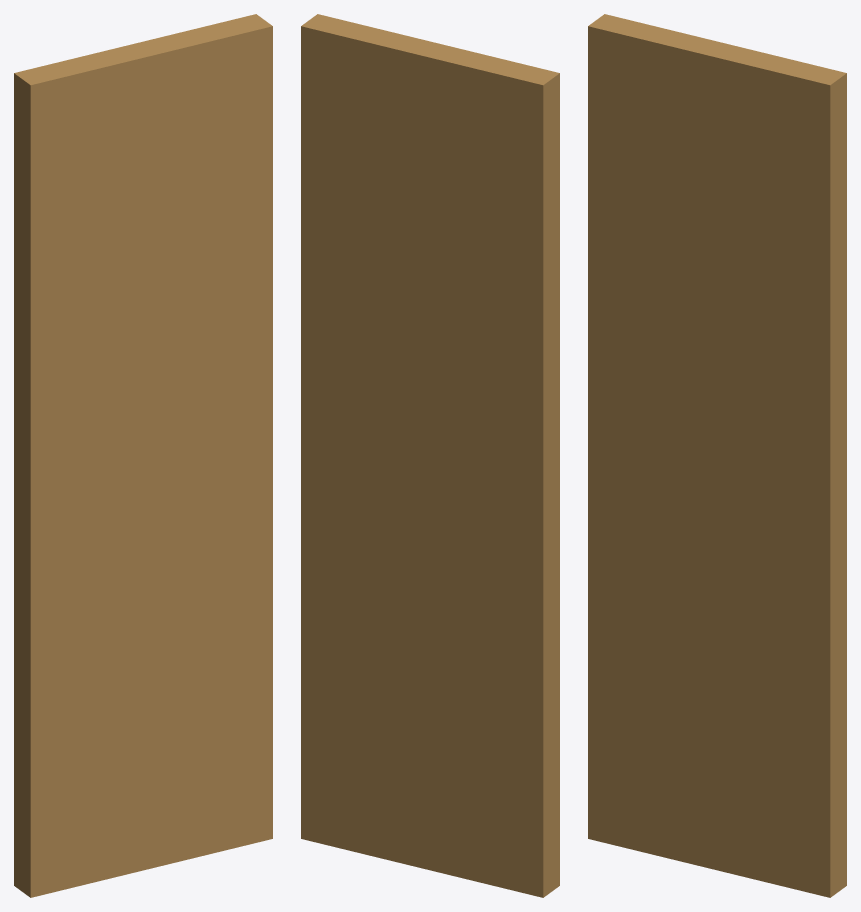
3 renders of one model, left to right at view 1: azimuth 30°, elevation 25°; view 2: azimuth 150°, elevation 25°; view 3: azimuth 330°, elevation 25°, orthographic.
Parts seen in each view (by area): view 1: FF-W110; view 2: FF-W110; view 3: FF-W110.
Boxes of the visible parts, x1,y1,x2,y2 form: FF-W110: (14,14,272,897); FF-W110: (301,14,559,897); FF-W110: (588,14,846,897).
Bounding box in the file's own units: 0.755 × 2.42 × 0.09.
